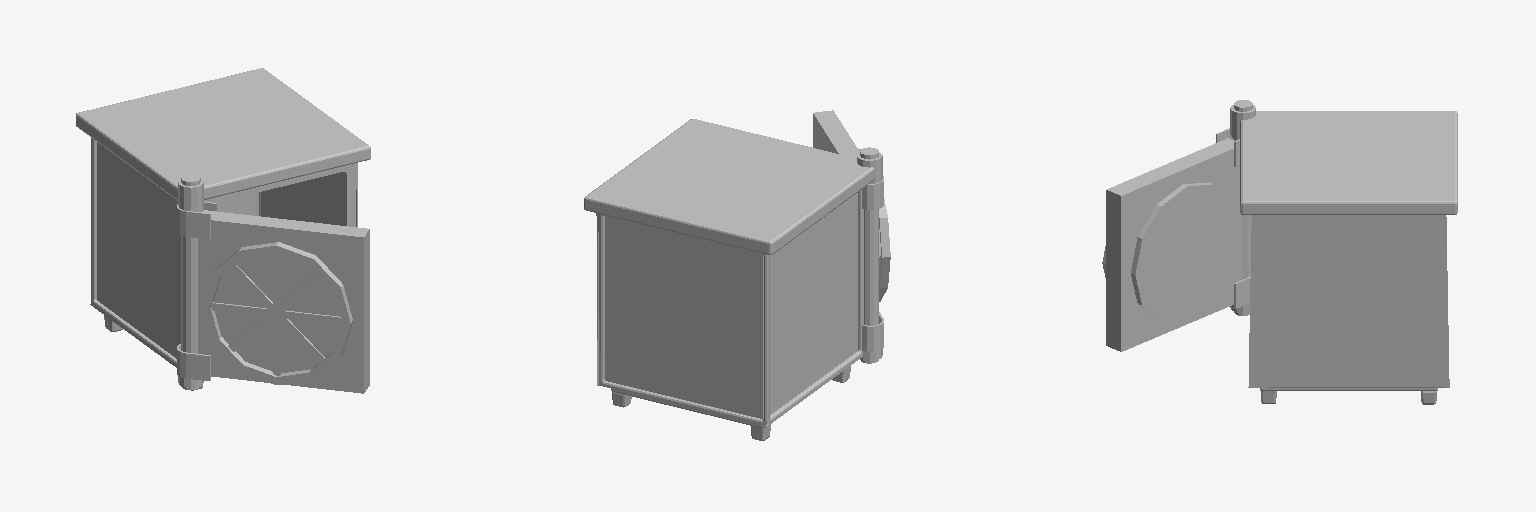
The model's file is safe.obj.
3 views of the same model, side by side, from view 1: azimuth 30°, elevation 25°; view 2: azimuth 150°, elevation 25°; view 3: azimuth 270°, elevation 25° (orthographic).
Parts seen in each view (by area): view 1: Cube.027_Material.019, Cube.027_Material.021, Cube.027_Material.022, Cube.027_Material.024; view 2: Cube.027_Material.019, Cube.027_Material.021, Cube.027_Material.022, Cube.027_Material.024; view 3: Cube.027_Material.019, Cube.027_Material.021, Cube.027_Material.022, Cube.027_Material.024.
Part boxes in pixels (bbox=[...]): Cube.027_Material.019: bbox=[76, 68, 370, 390]; Cube.027_Material.021: bbox=[177, 174, 352, 389]; Cube.027_Material.022: bbox=[198, 210, 369, 393]; Cube.027_Material.024: bbox=[178, 179, 203, 387]; Cube.027_Material.019: bbox=[584, 119, 874, 440]; Cube.027_Material.021: bbox=[858, 147, 890, 363]; Cube.027_Material.022: bbox=[813, 110, 859, 157]; Cube.027_Material.024: bbox=[857, 152, 882, 360]; Cube.027_Material.019: bbox=[1240, 111, 1457, 404]; Cube.027_Material.021: bbox=[1102, 100, 1252, 321]; Cube.027_Material.022: bbox=[1106, 138, 1242, 351]; Cube.027_Material.024: bbox=[1230, 105, 1255, 313].
Bounding box in the file's own units: 31.83 × 35.37 × 51.09.